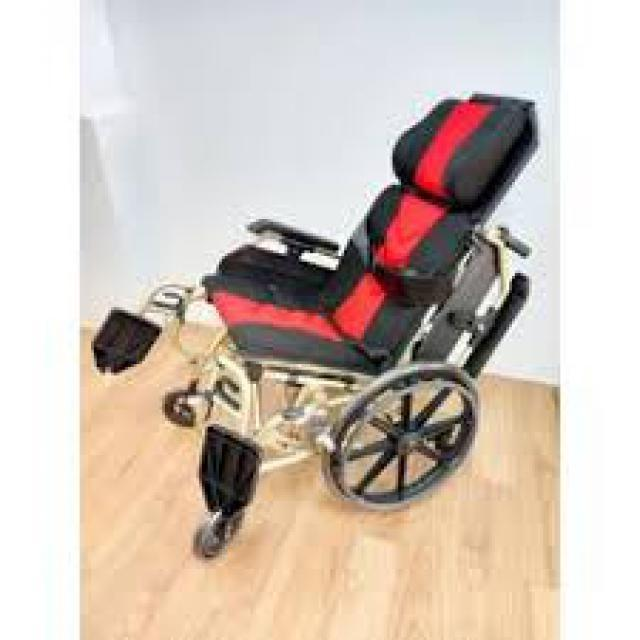wheelchairs: (99, 89, 538, 522)
